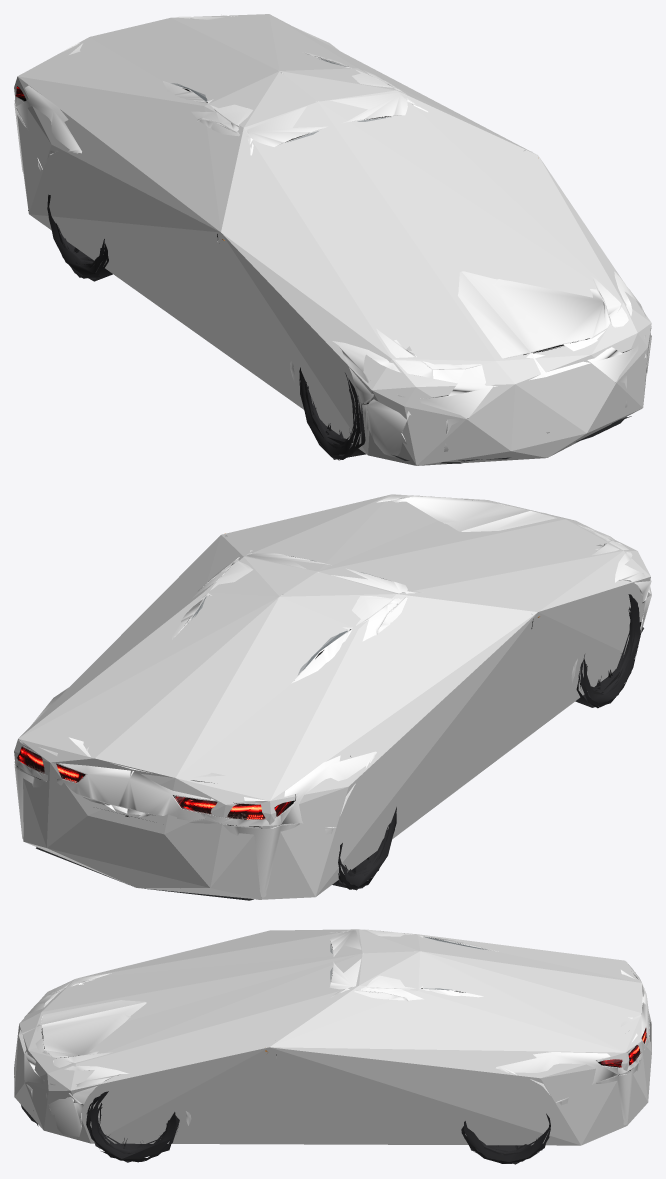
File: noctra_meridian_lod2.glb
The picture shows the model from 3 angles, top to bottom: view 1: azimuth 30°, elevation 25°; view 2: azimuth 150°, elevation 25°; view 3: azimuth 270°, elevation 25°; orthographic projection. The views are drawn at different scales.
Parts seen in each view (by area): view 1: col_body, body, wheel_FR, wheel_RR; view 2: col_body, body, wheel_FR, lights_rear, wheel_RR; view 3: col_body, body, wheel_FL, wheel_RL, lights_rear.
Part boxes in pixels (box(x1,y1,x2,y2)): col_body: box(14, 14, 651, 465); body: box(14, 14, 651, 457); wheel_FR: box(299, 367, 365, 460); wheel_RR: box(47, 194, 112, 281); col_body: box(14, 494, 650, 899); body: box(14, 494, 651, 899); wheel_FR: box(575, 594, 640, 708); lights_rear: box(17, 746, 295, 819); wheel_RR: box(332, 807, 396, 890); col_body: box(14, 929, 651, 1145); body: box(14, 929, 649, 1136); wheel_FL: box(86, 1091, 179, 1162); wheel_RL: box(461, 1113, 550, 1164); lights_rear: box(596, 1028, 646, 1067).
Size of the model in its own units: 2.09 by 1.33 by 4.78.
Materials: 5 (1 with a texture image).
